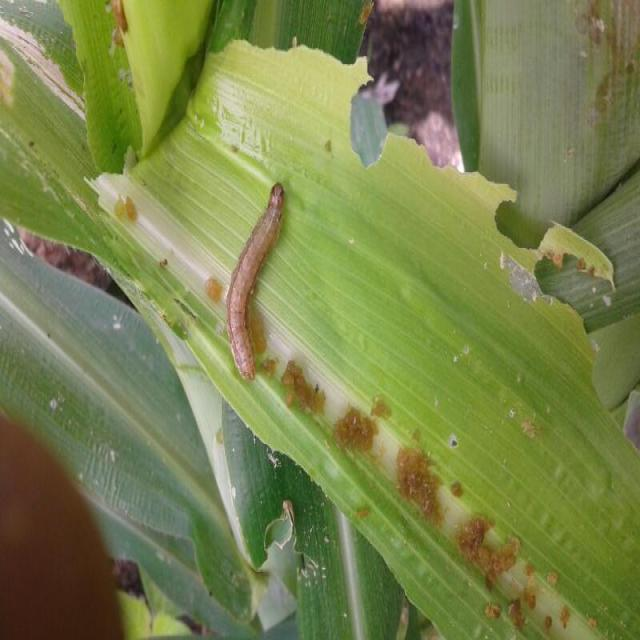yellow-stem-borer-larva: (200, 163, 306, 393)
